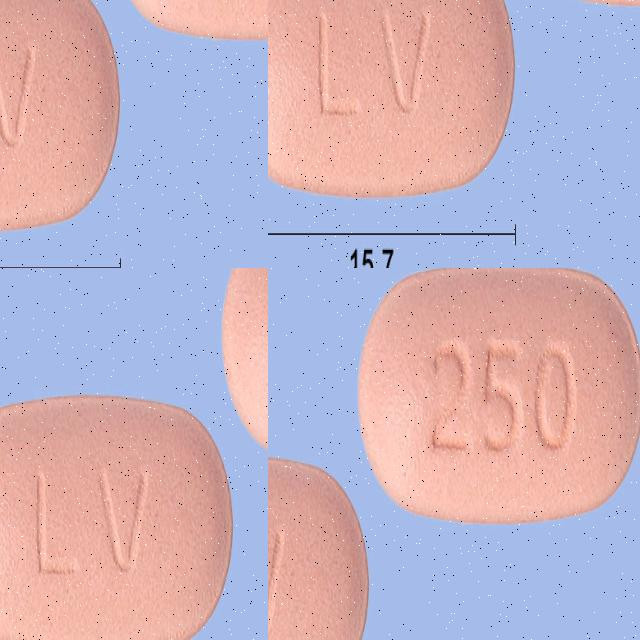Levogun - 500mg: (268, 0, 472, 203), (512, 0, 640, 200)
Lexacin: (359, 268, 640, 521), (268, 455, 367, 640)
Qsymia Cap-15mg: (0, 457, 268, 640), (170, 268, 268, 412)
Vacrax Tab: (0, 10, 135, 230)
